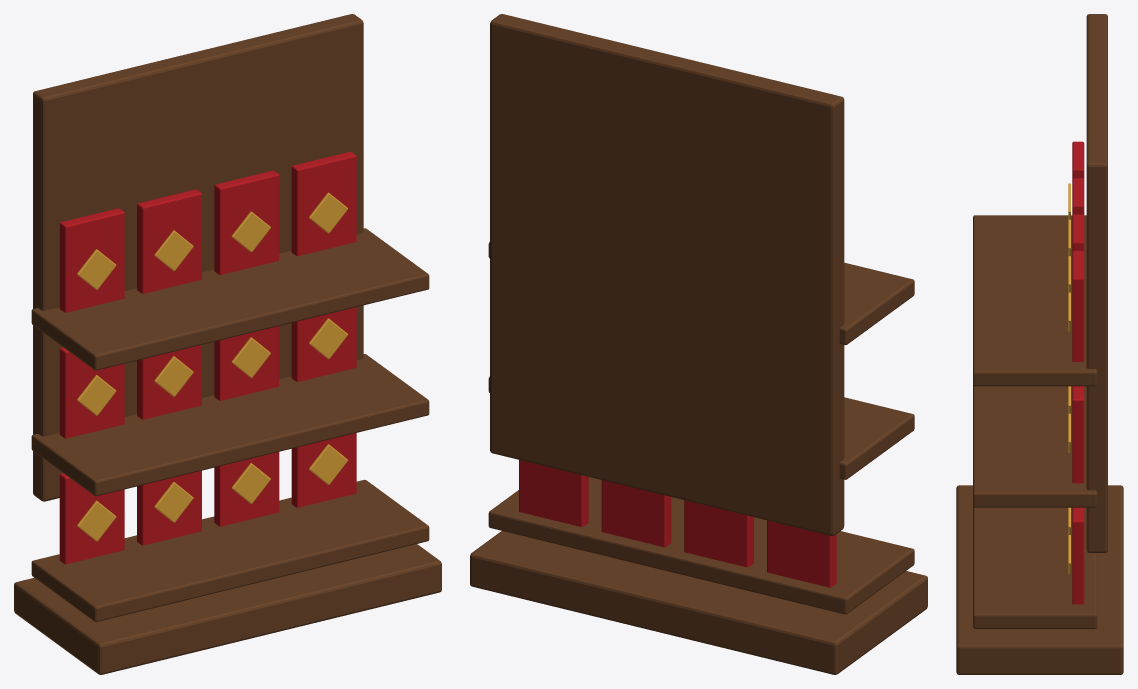
File: source-edit.glb
3 renders of one model, left to right at view 1: azimuth 30°, elevation 25°; view 2: azimuth 150°, elevation 25°; view 3: azimuth 270°, elevation 25°, orthographic. The views are drawn at different scales.
Parts seen in each view (by area): view 1: DISPLAY_Back, DISPLAY_Ledge, DISPLAY_Ledge.001, DISPLAY_Ledge.002, DISPLAY_Base, PACKET_2_3, PACKET_2_2, PACKET_2_0, PACKET_2_1, PACKET_0_0, PACKET_1_0, PACKET_1_2 (+17 smaller); view 2: DISPLAY_Back, DISPLAY_Base, DISPLAY_Ledge, PACKET_0_2, DISPLAY_Ledge.001, DISPLAY_Ledge.002, PACKET_0_0, PACKET_0_1, PACKET_0_3; view 3: DISPLAY_Ledge.002, DISPLAY_Ledge, DISPLAY_Base, DISPLAY_Ledge.001, DISPLAY_Back, PACKET_2_3, PACKET_0_3, PACKET_1_3, PACKET_2_0, PACKET_2_1, PACKET_2_2.
Part boxes in pixels (x1,y1,x2,y2): DISPLAY_Back: [33, 14, 363, 501]; DISPLAY_Ledge: [31, 479, 429, 621]; DISPLAY_Ledge.001: [31, 354, 429, 496]; DISPLAY_Ledge.002: [31, 228, 429, 370]; DISPLAY_Base: [14, 544, 441, 674]; PACKET_2_3: [291, 151, 356, 256]; PACKET_2_2: [214, 170, 279, 274]; PACKET_2_0: [59, 208, 124, 312]; PACKET_2_1: [137, 189, 201, 293]; PACKET_0_0: [59, 473, 124, 564]; PACKET_1_0: [59, 347, 124, 438]; PACKET_1_2: [214, 326, 279, 400]; DISPLAY_Back: [490, 14, 844, 535]; DISPLAY_Base: [470, 531, 927, 674]; DISPLAY_Ledge: [488, 477, 914, 614]; PACKET_0_2: [601, 480, 671, 547]; DISPLAY_Ledge.001: [488, 376, 914, 479]; DISPLAY_Ledge.002: [488, 242, 914, 345]; PACKET_0_0: [767, 520, 836, 587]; PACKET_0_1: [684, 500, 753, 567]; PACKET_0_3: [519, 460, 588, 526]; DISPLAY_Ledge.002: [973, 215, 1097, 386]; DISPLAY_Ledge: [973, 506, 1097, 628]; DISPLAY_Base: [956, 485, 1123, 674]; DISPLAY_Ledge.001: [973, 385, 1097, 507]; DISPLAY_Back: [1086, 14, 1107, 552]; PACKET_2_3: [1072, 250, 1084, 361]; PACKET_0_3: [1072, 507, 1084, 604]; PACKET_1_3: [1072, 386, 1084, 483]; PACKET_2_0: [1072, 141, 1084, 178]; PACKET_2_1: [1072, 178, 1084, 215]; PACKET_2_2: [1072, 214, 1084, 251].
Size of the model in its own units: 0.8 by 1.17 by 0.35.
